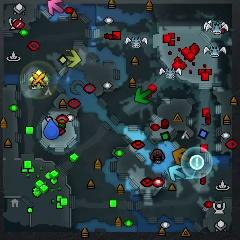Other: (190, 154, 204, 170)
p1: (44, 119, 60, 140)
x1: (48, 0, 64, 16)
x2: (64, 50, 81, 67)
x3: (168, 164, 186, 181)
x4: (134, 86, 151, 104)
x5: (172, 147, 189, 164)
